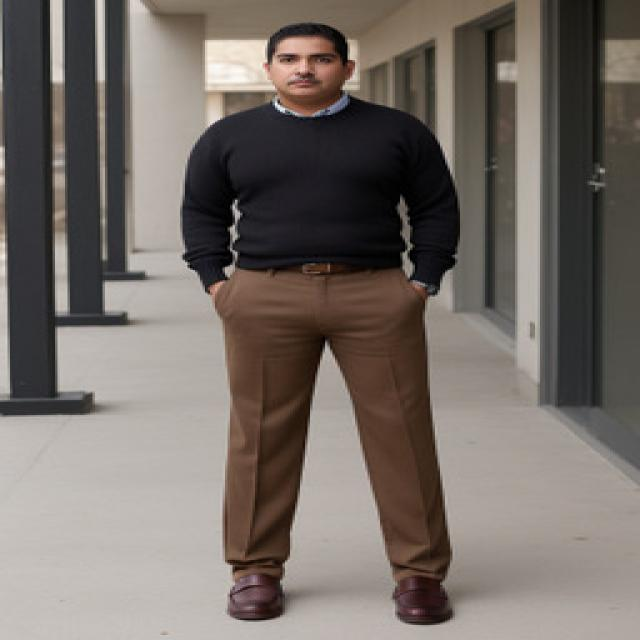Ai human 2: (162, 17, 516, 640)
